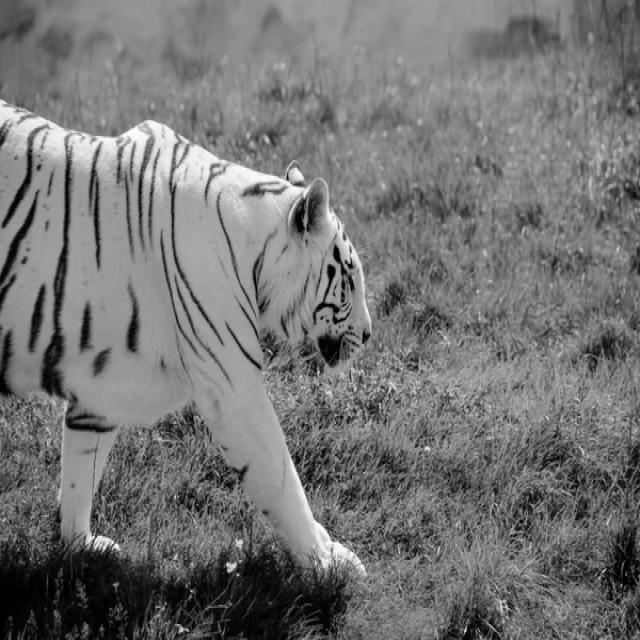Animal: (3, 101, 373, 592)
